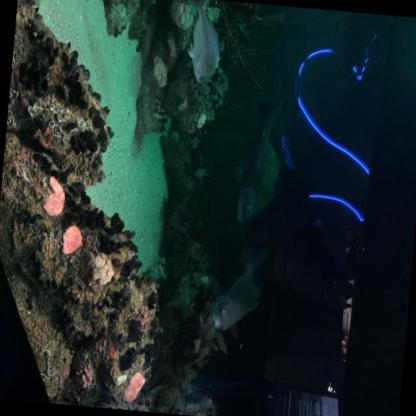fish: (225, 96, 293, 228), (206, 243, 272, 337), (183, 0, 225, 86)
